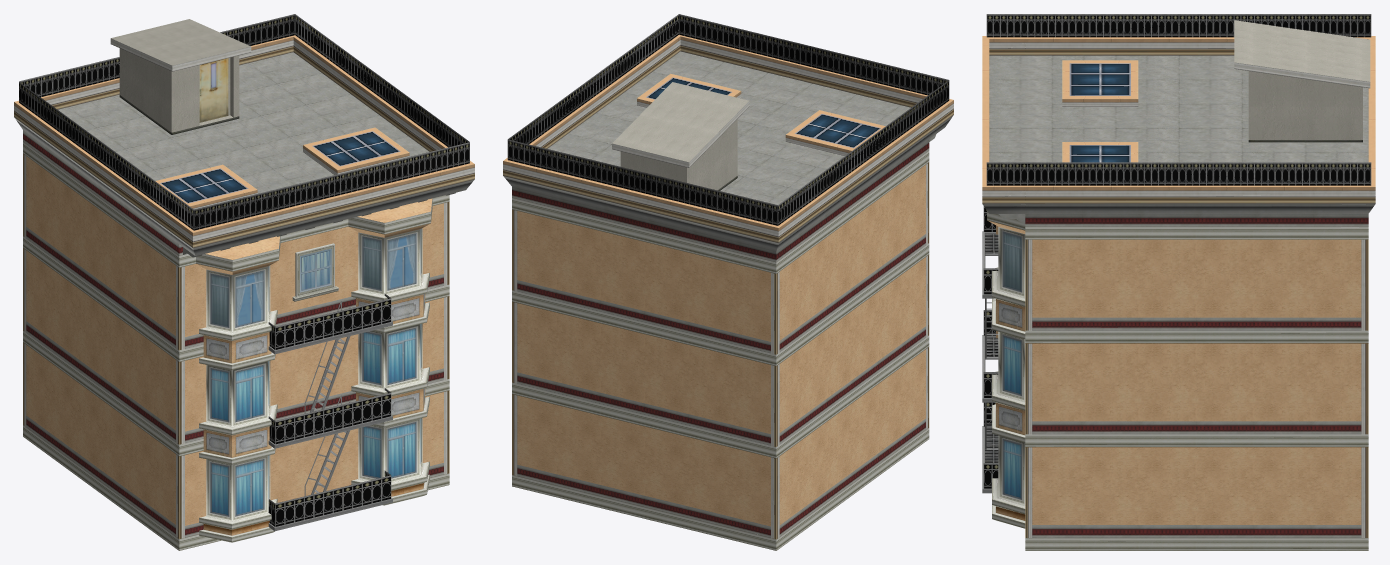
File: HouseA.obj
3 views of the same model, side by side, from view 1: azimuth 30°, elevation 25°; view 2: azimuth 150°, elevation 25°; view 3: azimuth 270°, elevation 25° (orthographic). The views are drawn at different scales.
Visible parts, largest first — view 1: HouseA; view 2: HouseA; view 3: HouseA.
Part boxes in pixels (left/top/right/bottom): HouseA: left=14, top=14, right=474, bottom=550; HouseA: left=503, top=14, right=953, bottom=550; HouseA: left=982, top=14, right=1375, bottom=550.
Bounding box in the file's own units: 13.75 × 18.37 × 15.13.
